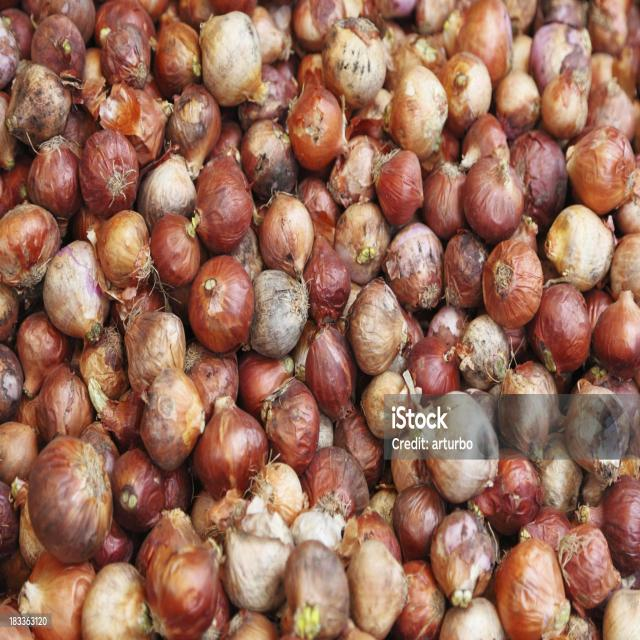rotten: (27, 436, 113, 564), (492, 537, 572, 640), (220, 504, 294, 614), (146, 537, 225, 640), (192, 400, 266, 502), (424, 408, 500, 504), (139, 367, 207, 471), (281, 539, 351, 639), (429, 506, 498, 606), (187, 256, 256, 354), (43, 242, 109, 344), (19, 552, 95, 639), (199, 10, 266, 108), (565, 125, 636, 215), (544, 205, 616, 292), (320, 16, 385, 112), (344, 538, 406, 638), (530, 282, 592, 382), (383, 66, 447, 162), (508, 131, 568, 232), (345, 279, 407, 376), (4, 63, 72, 151), (564, 388, 633, 473), (556, 522, 621, 612), (192, 160, 254, 254), (498, 364, 562, 455), (0, 204, 60, 297), (480, 238, 542, 328), (462, 154, 524, 244), (261, 379, 321, 472), (80, 563, 152, 640), (79, 128, 139, 219), (164, 84, 222, 178), (135, 506, 203, 586), (123, 310, 186, 396), (249, 268, 309, 358), (106, 83, 169, 167), (287, 82, 345, 172), (90, 210, 152, 294), (471, 461, 542, 534), (304, 320, 356, 419), (382, 222, 440, 310), (453, 0, 514, 83), (258, 191, 314, 279), (302, 447, 366, 523), (137, 151, 197, 232), (34, 362, 93, 444), (27, 138, 83, 224), (333, 201, 389, 285), (14, 311, 68, 398), (240, 119, 297, 201), (589, 288, 640, 379), (110, 448, 166, 530), (438, 52, 492, 137), (183, 344, 240, 423), (530, 22, 589, 98), (329, 134, 386, 211), (457, 313, 513, 391), (393, 562, 448, 640), (236, 350, 295, 422), (332, 408, 383, 490), (302, 237, 350, 324), (149, 213, 203, 290), (392, 484, 445, 562), (442, 229, 491, 312), (598, 478, 640, 574), (374, 149, 425, 227), (30, 13, 86, 82), (80, 326, 129, 404), (540, 67, 590, 142), (154, 20, 202, 98), (241, 62, 297, 128), (422, 161, 468, 240), (584, 75, 636, 144), (361, 370, 412, 440), (340, 507, 397, 568), (494, 69, 542, 140), (100, 23, 150, 91), (255, 461, 307, 526), (94, 386, 146, 451), (406, 337, 461, 397), (114, 276, 166, 337), (290, 501, 346, 556), (532, 450, 582, 511), (390, 35, 442, 90), (292, 0, 344, 52), (0, 420, 39, 489), (462, 114, 510, 169), (586, 0, 630, 59), (251, 5, 293, 66), (296, 177, 336, 240), (521, 506, 574, 553), (78, 422, 120, 478), (18, 492, 47, 569), (72, 69, 110, 126), (0, 157, 34, 217), (390, 451, 432, 498), (427, 304, 468, 352), (0, 343, 24, 423), (0, 7, 34, 62), (538, 0, 590, 32), (411, 1, 457, 36), (0, 480, 20, 560), (611, 49, 639, 105), (190, 490, 218, 544), (581, 287, 613, 334), (498, 0, 539, 36), (465, 390, 500, 432), (527, 362, 561, 405), (576, 465, 609, 509), (0, 92, 18, 172), (296, 52, 325, 95), (368, 488, 397, 530), (0, 279, 19, 343), (441, 9, 466, 57), (588, 53, 616, 95), (178, 0, 216, 30), (572, 497, 606, 530), (136, 531, 158, 580), (94, 1, 117, 45), (19, 395, 42, 438)
